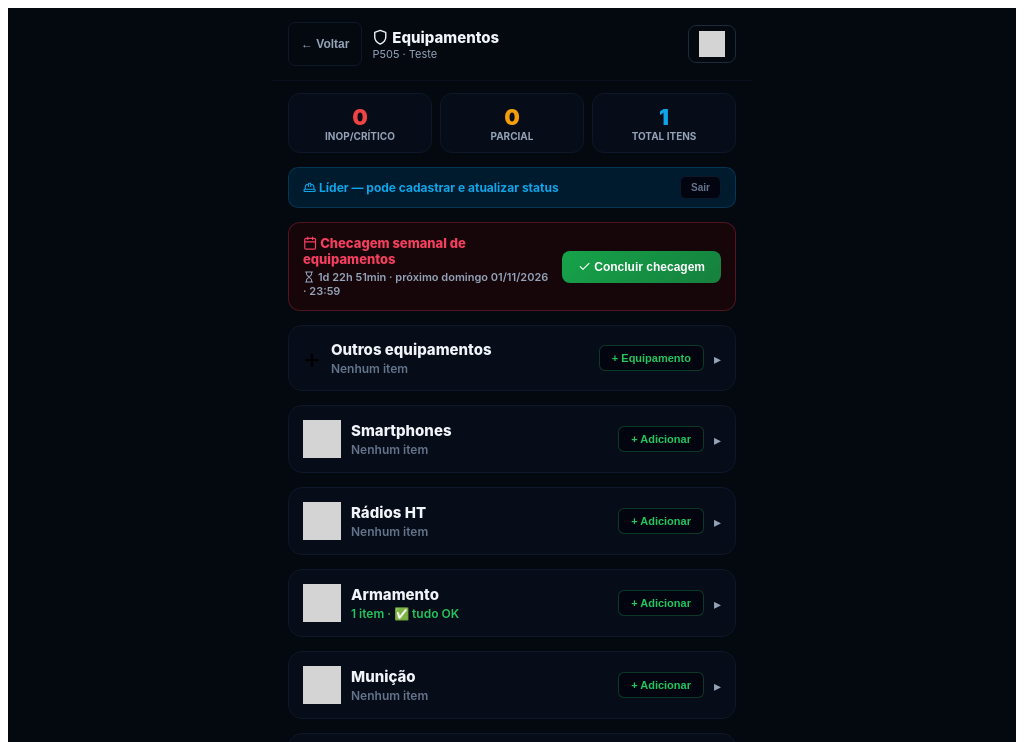
Test case: adicionar fica visível com categoria fechada e abre o formulário correto
Click the text "Armamento".
click(395, 594)  # box [351,585,439,604]
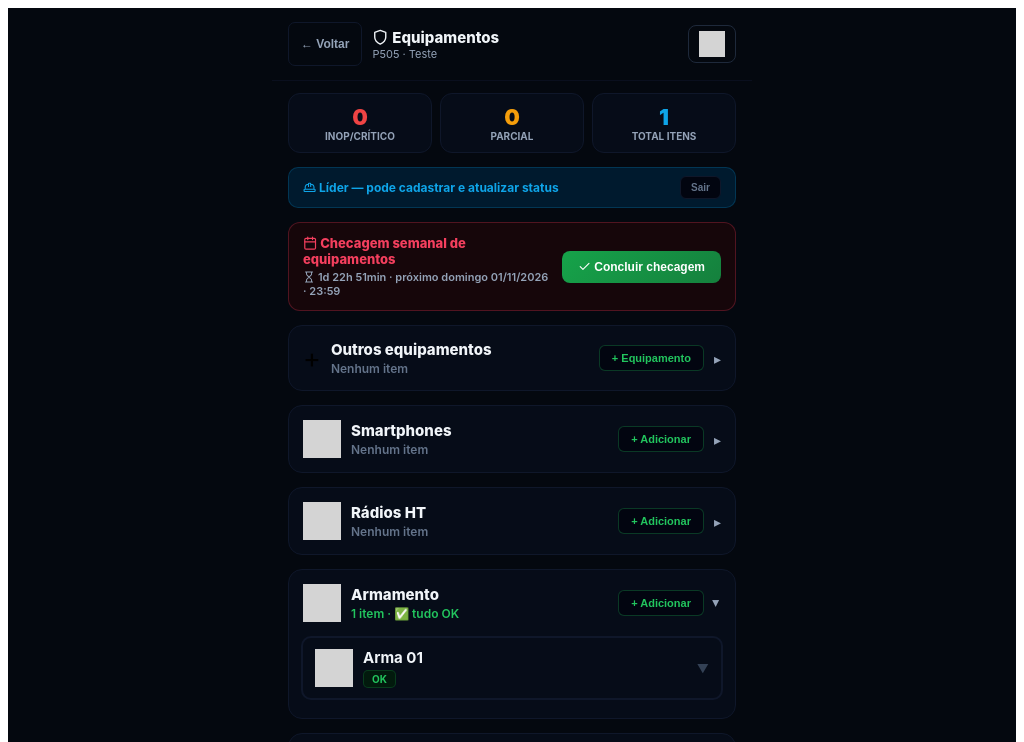
Expected: the text "Arma 01" is shown
Click the text "Arma 01".
click(393, 658)  # box [363,648,423,667]
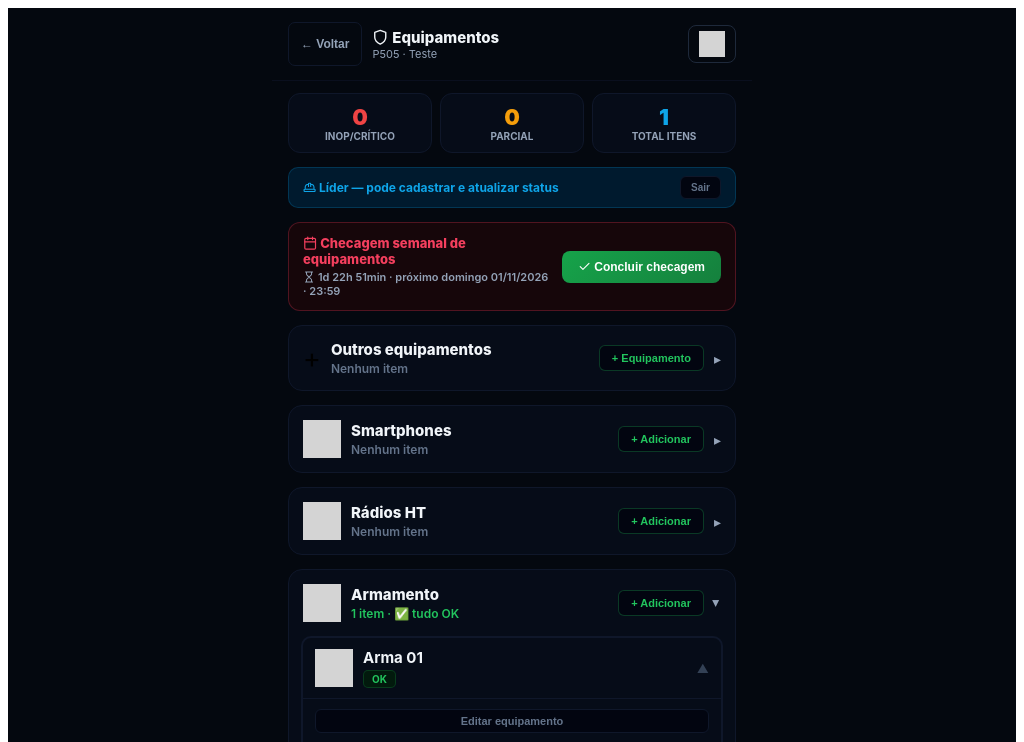
Click the text "Armamento".
click(395, 594)  # box [351,585,439,604]
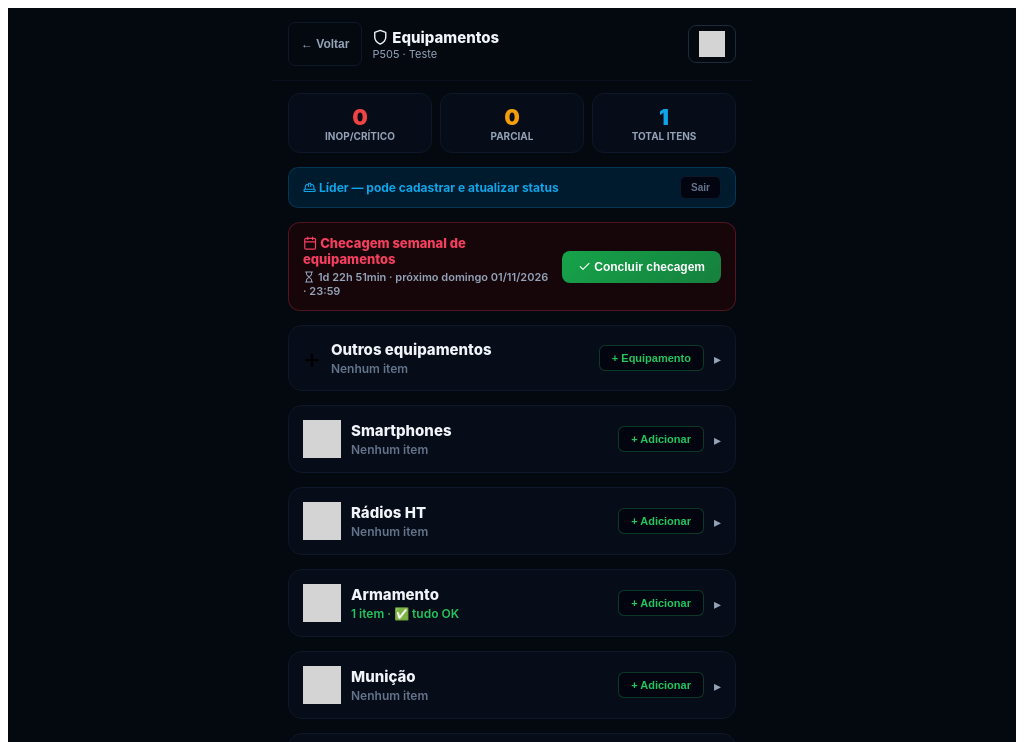
Click the button with aria-label "Adicionar equipamento em Armamento".
click(661, 603)  # box [618,590,704,616]
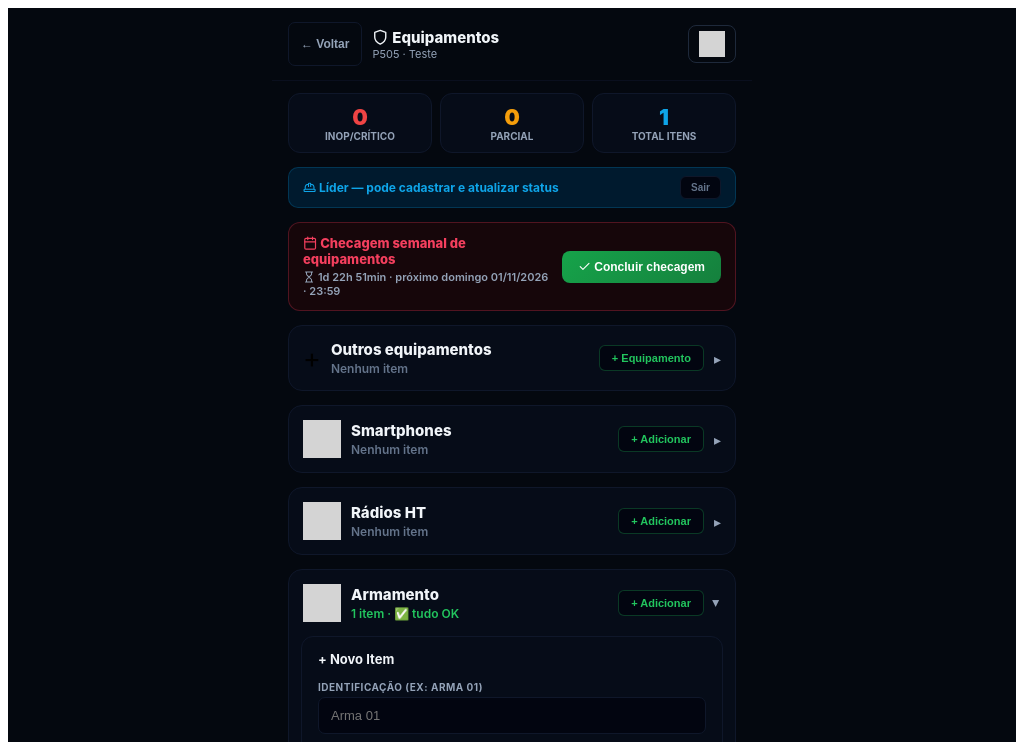
Expected: the text "Adicionar" is shown, [618,426,704,452]
Expected: the field with placeholder "Arma 01" is shown, [318,697,706,734]
